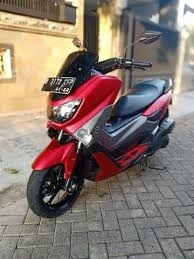plate: (39, 76, 74, 92)
